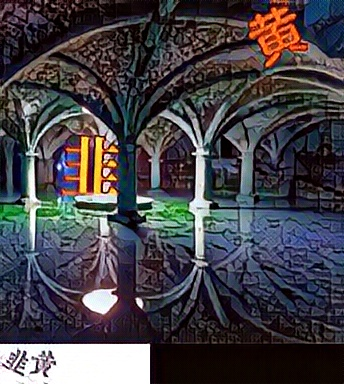BBC6: (247, 4, 307, 68)
BEC2: (61, 135, 121, 199)
